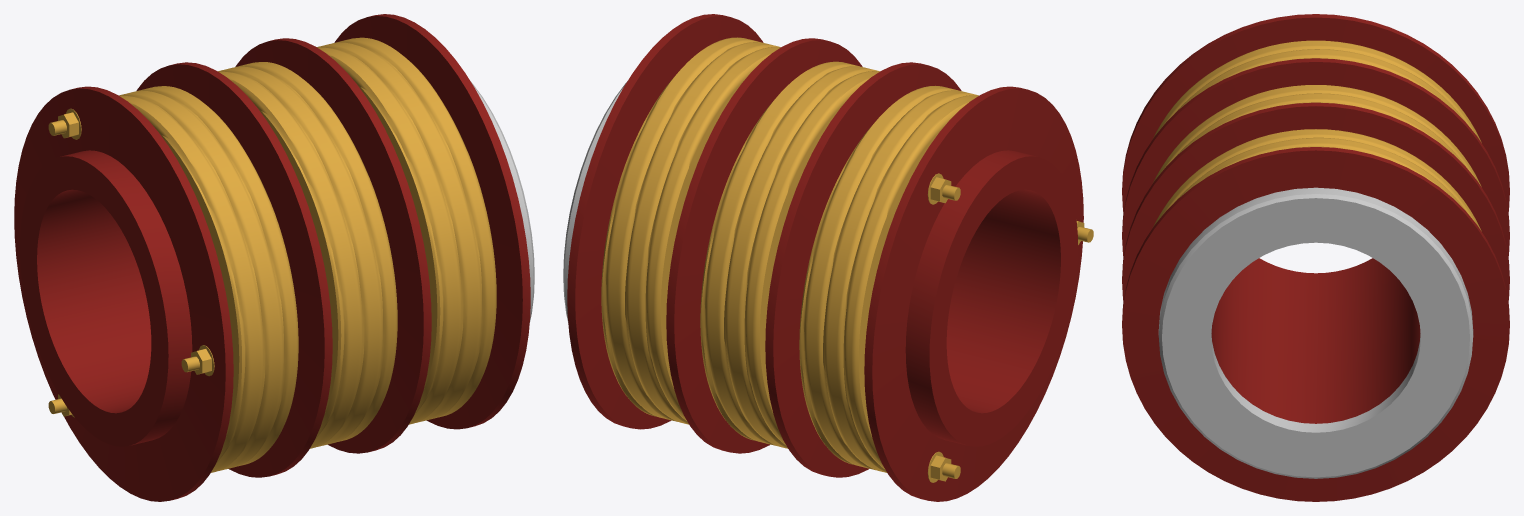
Rendered from collector_ring.obj.
3 renders of one model, left to right at view 1: azimuth 30°, elevation 25°; view 2: azimuth 150°, elevation 25°; view 3: azimuth 270°, elevation 25°, orthographic. The views are drawn at different scales.
Parts seen in each view (by area): view 1: collector_ring; view 2: collector_ring; view 3: collector_ring.
Part boxes in pixels (x1,y1,x2,y2): collector_ring: (14, 14, 534, 501); collector_ring: (563, 14, 1093, 501); collector_ring: (1122, 14, 1509, 501).
Size of the model in its own units: 0.36 by 0.37 by 0.37.
